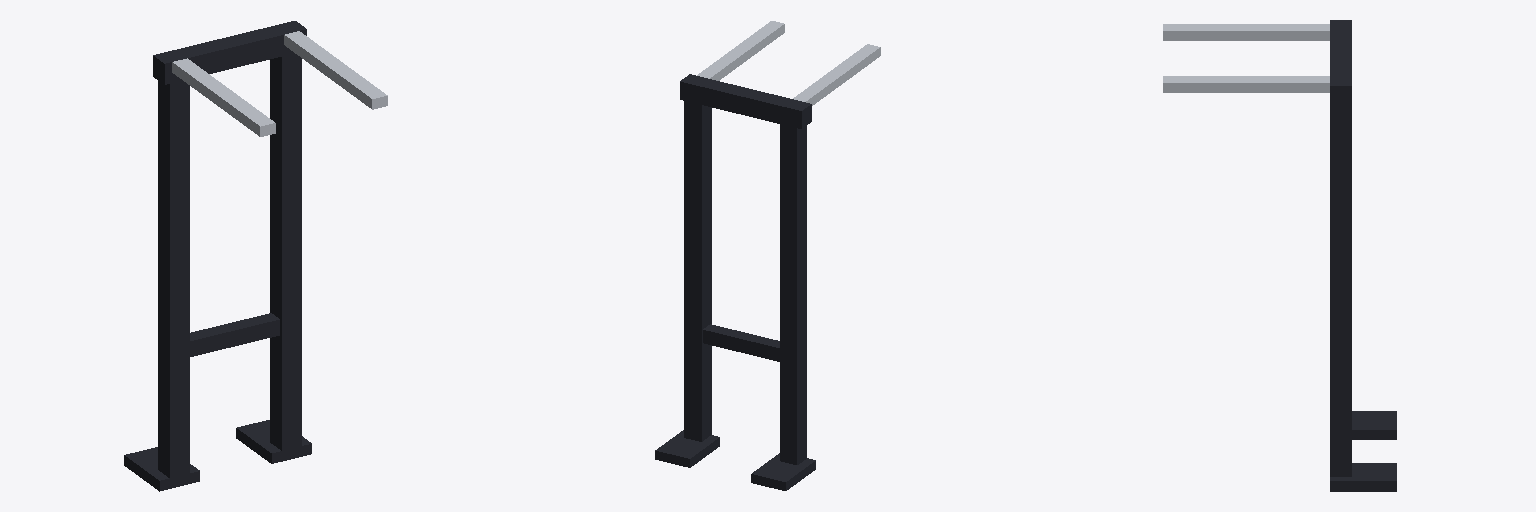
URDF robot description (stand):
<?xml version="1.0"?>
<!-- SPDX-License-Identifier: GPL-3.0-or-later OR LicenseRef-RobotIK-Commercial
     Copyright (c) 2020-2026 Quentin Quadrat
     Stand of a tray: two rails along y, open toward -y, held by two legs
     on the +y side. A cup comes under the tray between the rails.
     Base frame: origin on the floor below the middle of the rails, z up.
     The top of the rails is 0.80 m high. -->
<robot name="stand">
  <material name="aluminium"><color rgba="0.78 0.80 0.83 1"/></material>
  <material name="graphite"><color rgba="0.20 0.21 0.24 1"/></material>

  <link name="stand_base">
    <inertial>
      <origin xyz="0 0.15 0.4" rpy="0 0 0"/>
      <mass value="8.0"/>
      <inertia ixx="1.0" ixy="0.0" ixz="0.0" iyy="1.0" iyz="0.0" izz="1.0"/>
    </inertial>
    <visual>
      <!-- rail -->
      <origin xyz="-0.1100 0.0000 0.7900" rpy="0.0000 0.0000 0.0000"/>
      <geometry><box size="0.0300 0.3000 0.0200"/></geometry>
      <material name="aluminium"/>
    </visual>
    <collision>
      <!-- rail -->
      <origin xyz="-0.1100 0.0000 0.7900" rpy="0.0000 0.0000 0.0000"/>
      <geometry><box size="0.0300 0.3000 0.0200"/></geometry>
    </collision>
    <visual>
      <!-- leg -->
      <origin xyz="-0.1100 0.1700 0.3900" rpy="0.0000 0.0000 0.0000"/>
      <geometry><box size="0.0400 0.0400 0.7800"/></geometry>
      <material name="graphite"/>
    </visual>
    <collision>
      <!-- leg -->
      <origin xyz="-0.1100 0.1700 0.3900" rpy="0.0000 0.0000 0.0000"/>
      <geometry><box size="0.0400 0.0400 0.7800"/></geometry>
    </collision>
    <visual>
      <!-- foot -->
      <origin xyz="-0.1100 0.2100 0.0100" rpy="0.0000 0.0000 0.0000"/>
      <geometry><box size="0.0800 0.1200 0.0200"/></geometry>
      <material name="graphite"/>
    </visual>
    <collision>
      <!-- foot -->
      <origin xyz="-0.1100 0.2100 0.0100" rpy="0.0000 0.0000 0.0000"/>
      <geometry><box size="0.0800 0.1200 0.0200"/></geometry>
    </collision>
    <visual>
      <!-- rail -->
      <origin xyz="0.1100 0.0000 0.7900" rpy="0.0000 0.0000 0.0000"/>
      <geometry><box size="0.0300 0.3000 0.0200"/></geometry>
      <material name="aluminium"/>
    </visual>
    <collision>
      <!-- rail -->
      <origin xyz="0.1100 0.0000 0.7900" rpy="0.0000 0.0000 0.0000"/>
      <geometry><box size="0.0300 0.3000 0.0200"/></geometry>
    </collision>
    <visual>
      <!-- leg -->
      <origin xyz="0.1100 0.1700 0.3900" rpy="0.0000 0.0000 0.0000"/>
      <geometry><box size="0.0400 0.0400 0.7800"/></geometry>
      <material name="graphite"/>
    </visual>
    <collision>
      <!-- leg -->
      <origin xyz="0.1100 0.1700 0.3900" rpy="0.0000 0.0000 0.0000"/>
      <geometry><box size="0.0400 0.0400 0.7800"/></geometry>
    </collision>
    <visual>
      <!-- foot -->
      <origin xyz="0.1100 0.2100 0.0100" rpy="0.0000 0.0000 0.0000"/>
      <geometry><box size="0.0800 0.1200 0.0200"/></geometry>
      <material name="graphite"/>
    </visual>
    <collision>
      <!-- foot -->
      <origin xyz="0.1100 0.2100 0.0100" rpy="0.0000 0.0000 0.0000"/>
      <geometry><box size="0.0800 0.1200 0.0200"/></geometry>
    </collision>
    <visual>
      <!-- cross_bar -->
      <origin xyz="0.0000 0.1700 0.7800" rpy="0.0000 0.0000 0.0000"/>
      <geometry><box size="0.2800 0.0400 0.0400"/></geometry>
      <material name="graphite"/>
    </visual>
    <collision>
      <!-- cross_bar -->
      <origin xyz="0.0000 0.1700 0.7800" rpy="0.0000 0.0000 0.0000"/>
      <geometry><box size="0.2800 0.0400 0.0400"/></geometry>
    </collision>
    <visual>
      <!-- back_brace -->
      <origin xyz="0.0000 0.1700 0.2500" rpy="0.0000 0.0000 0.0000"/>
      <geometry><box size="0.1800 0.0300 0.0300"/></geometry>
      <material name="graphite"/>
    </visual>
  </link>
</robot>

--- Facts derived from the render (not from the file) ---
The picture shows the robot from 3 angles, left to right: view 1: azimuth 30°, elevation 25°; view 2: azimuth 150°, elevation 25°; view 3: azimuth 270°, elevation 25°; orthographic projection.
Model stand with 1 links and 0 joints (none), rooted at stand_base, posed every joint at zero.
Visible links, largest first — view 1: stand_base; view 2: stand_base; view 3: stand_base.
Link boxes in pixels (x1,y1,x2,y2): stand_base: (124,21,387,491); stand_base: (655,21,880,490); stand_base: (1163,20,1396,491).
Bounding box of the posed robot: 0.3 × 0.42 × 0.8 m (x, y, z).
Geometry: primitives only (box / cylinder / sphere), no mesh files.
